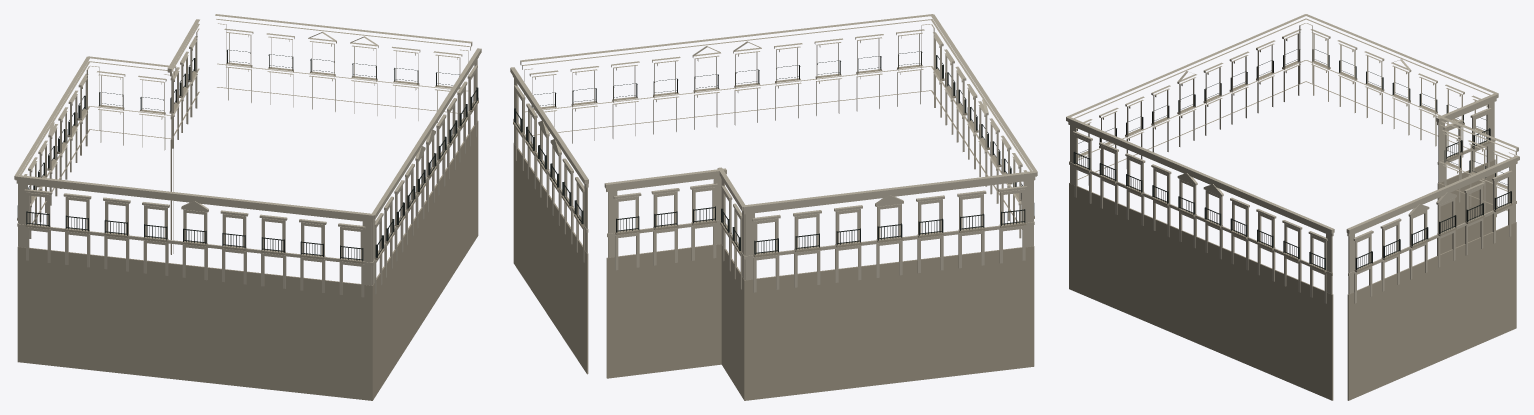
3 renders of one model, left to right at view 1: azimuth 30°, elevation 25°; view 2: azimuth 150°, elevation 25°; view 3: azimuth 270°, elevation 25°, orthographic. The views are drawn at different scales.
Parts seen in each view (by area): view 1: detail; view 2: detail; view 3: detail.
Boxes of the visible parts, x1,y1,x2,y2 form: detail: (14, 14, 481, 400); detail: (510, 14, 1037, 400); detail: (1066, 14, 1519, 400).
Bounding box in the file's own units: 36.93 × 13.7 × 32.75.
